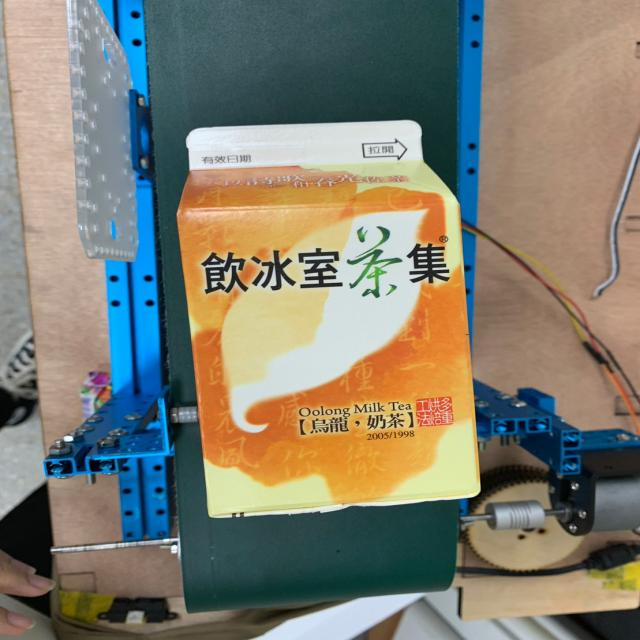non_white_jug: (168, 110, 503, 539)
